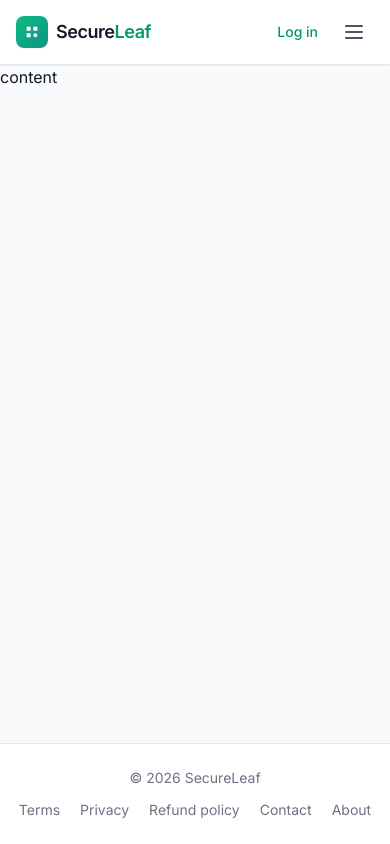
it: AppLayout mobile menu › shows only Marketplace to a logged-out visitor
Click the button named "Open menu".
click(354, 32)  # box [334,12,374,52]
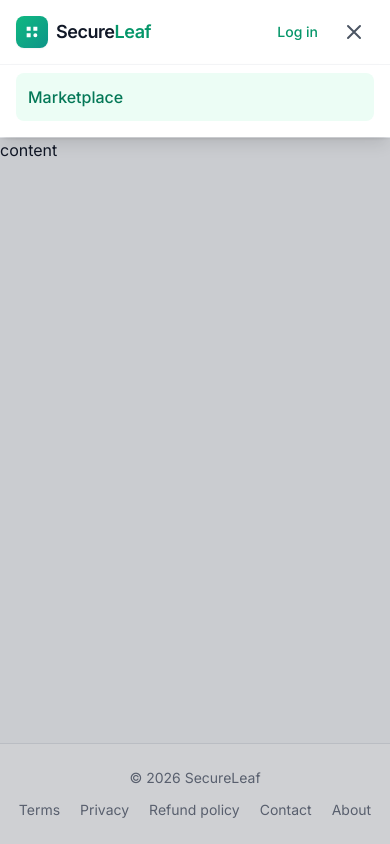
Expected: the links read "Marketplace", in this order, [16,73,374,121]
